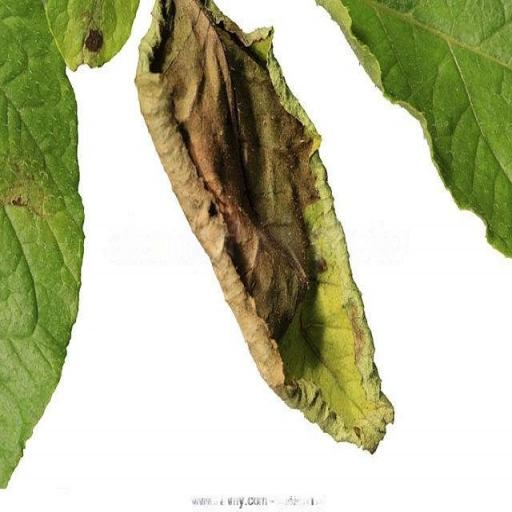Late Blight: (131, 0, 397, 459)
